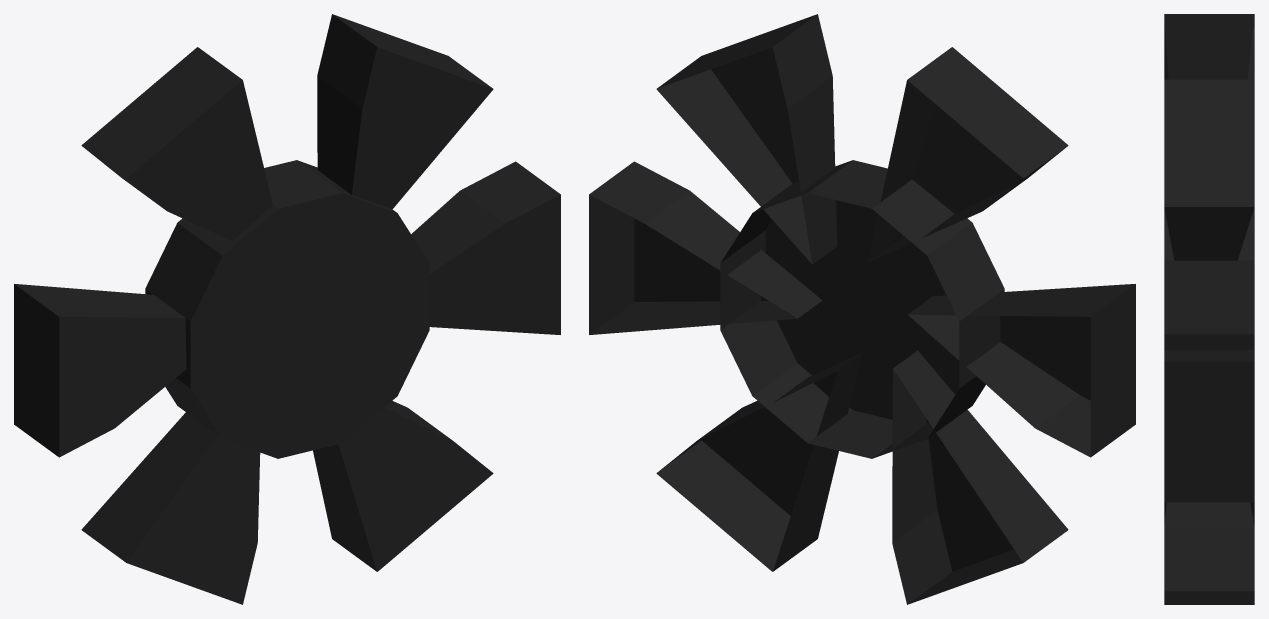
Rendered from KAC_Oven_Fan_V2.glb.
The picture shows the model from 3 angles, left to right: view 1: azimuth 30°, elevation 25°; view 2: azimuth 150°, elevation 25°; view 3: azimuth 270°, elevation 25°; orthographic projection.
Visible parts, largest first — view 1: KAC_Oven_Fan_V2; view 2: KAC_Oven_Fan_V2; view 3: KAC_Oven_Fan_V2.
Boxes of the visible parts, x1,y1,x2,y2 form: KAC_Oven_Fan_V2: (14, 14, 560, 604); KAC_Oven_Fan_V2: (589, 14, 1135, 604); KAC_Oven_Fan_V2: (1164, 14, 1254, 604).
Size of the model in its own units: 0.1085 by 0.1085 by 0.0169.
Materials: 1 (1 with a texture image).
